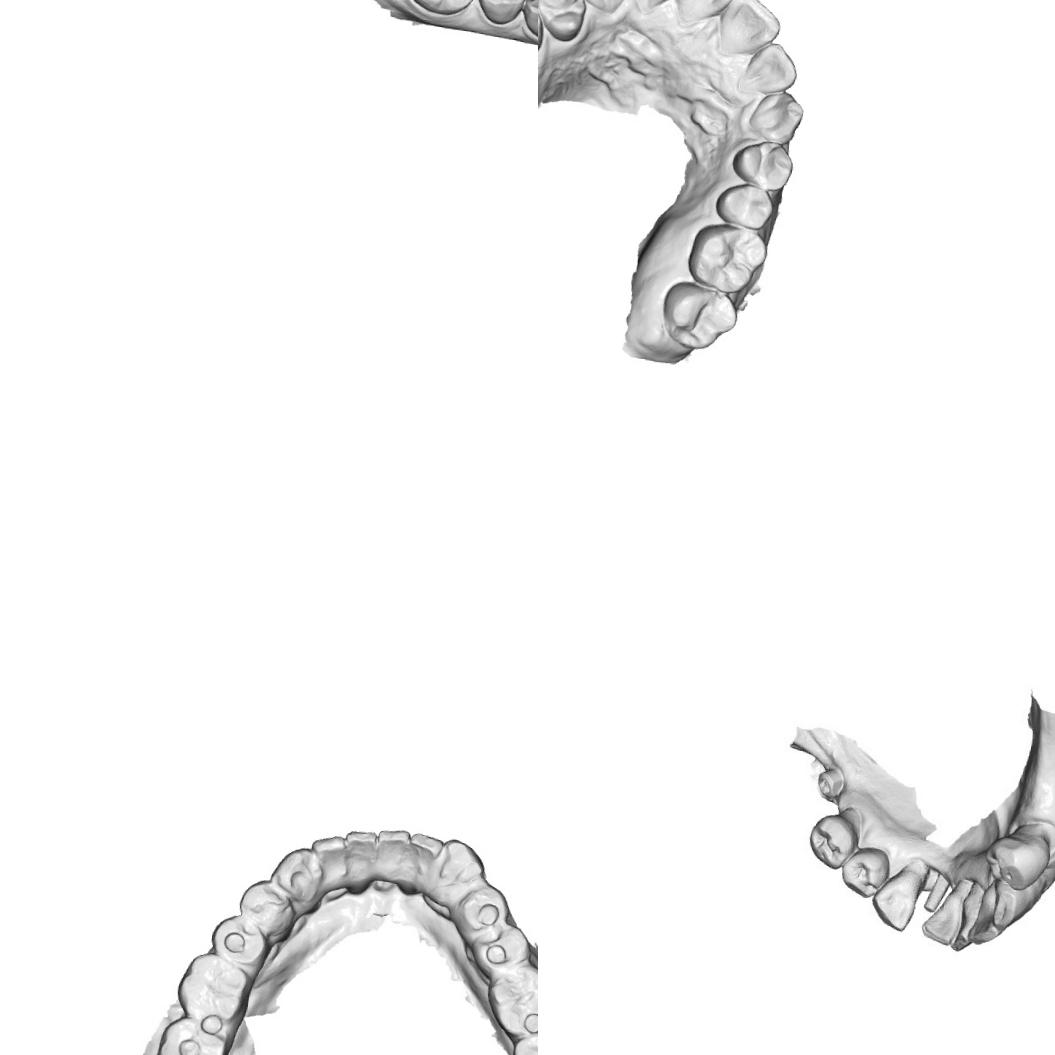canine: (422, 833, 490, 909), (265, 842, 329, 916), (870, 860, 927, 936), (745, 84, 807, 146), (575, 0, 635, 17)
incisor: (734, 36, 804, 101), (714, 0, 785, 61), (398, 827, 447, 895), (337, 826, 385, 894), (303, 830, 351, 898), (369, 826, 417, 888), (927, 884, 968, 944), (965, 888, 1008, 945), (989, 880, 1034, 931), (669, 0, 739, 30), (948, 900, 974, 957)
molar: (170, 946, 256, 1028), (682, 218, 770, 296), (655, 277, 741, 355), (481, 961, 538, 1043), (150, 1012, 233, 1055), (399, 0, 489, 20)
premolar: (233, 873, 301, 940), (466, 916, 536, 980), (206, 910, 274, 974), (451, 879, 513, 948), (727, 136, 797, 194), (990, 826, 1046, 890), (712, 178, 777, 232), (808, 814, 854, 868), (538, 0, 590, 44), (842, 846, 888, 894), (470, 0, 533, 30), (515, 0, 538, 44)
